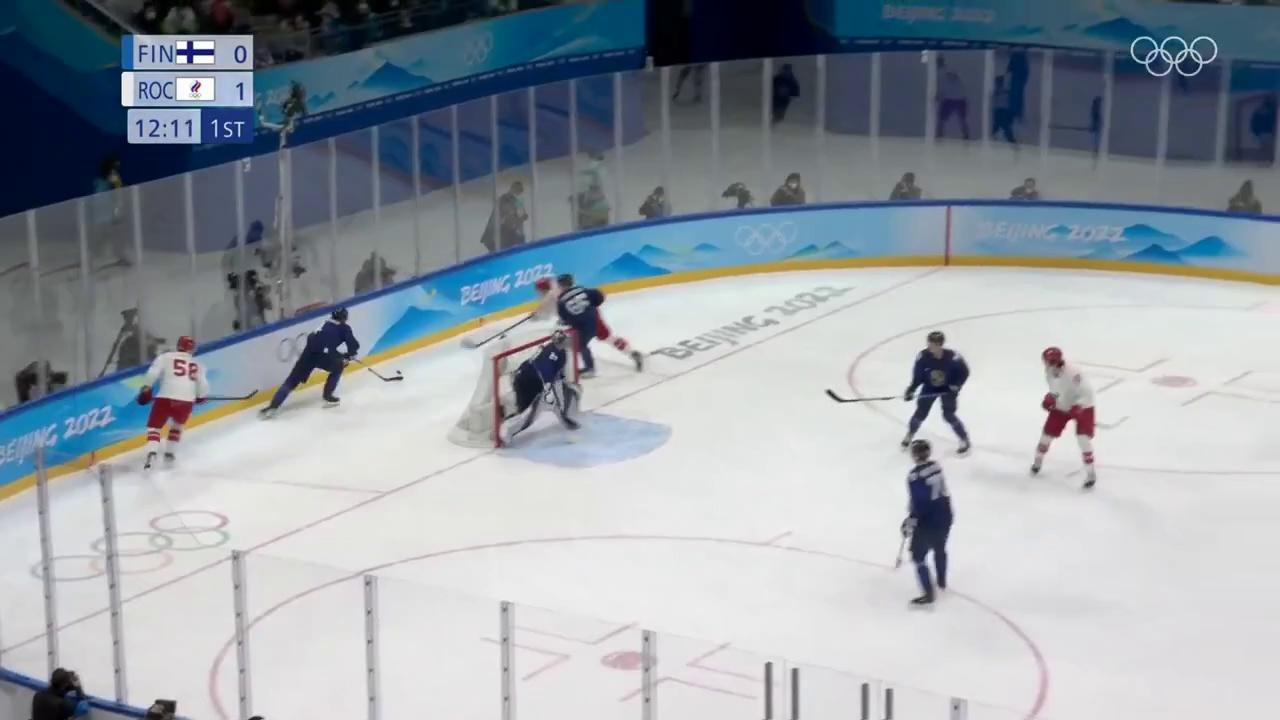ball: (396, 370, 402, 375)
